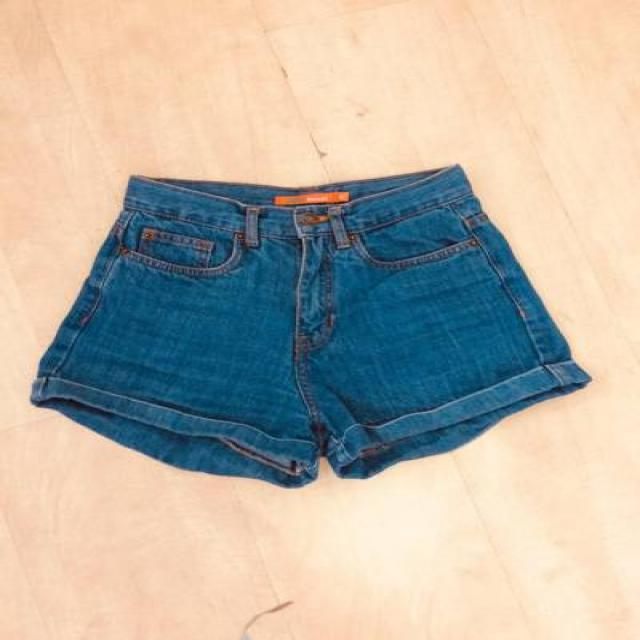Clothes -Biodegradable-: (26, 168, 598, 487)
